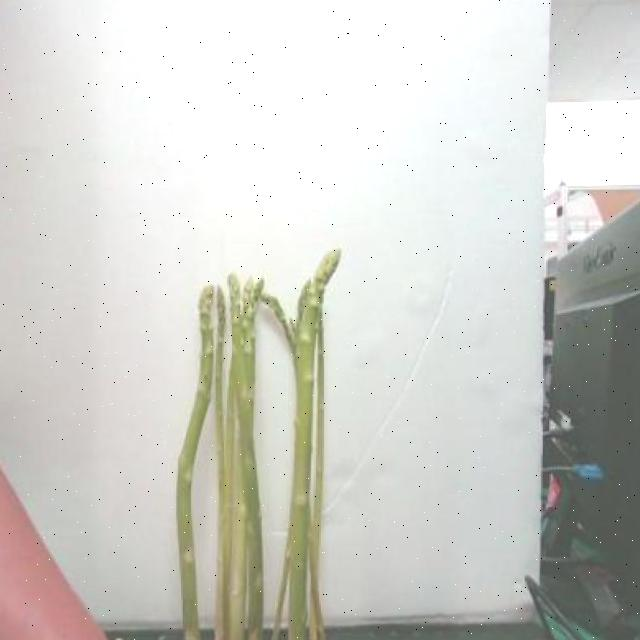aspargus: (173, 252, 337, 640)
